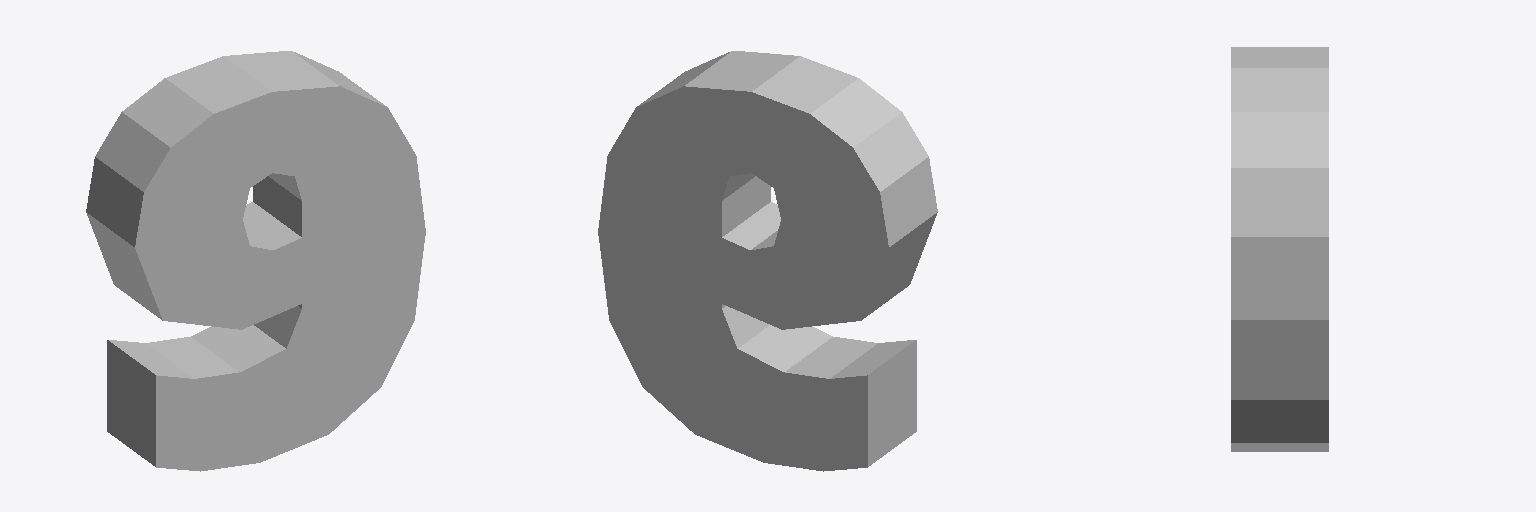
3 views of the same model, side by side, from view 1: azimuth 30°, elevation 25°; view 2: azimuth 150°, elevation 25°; view 3: azimuth 270°, elevation 25° (orthographic).
Visible parts, largest first — view 1: text: ABCDEFGHIJKLMNOPQRSTUVWXYZ[number redacted]; view 2: text: ABCDEFGHIJKLMNOPQRSTUVWXYZ[number redacted]; view 3: text: ABCDEFGHIJKLMNOPQRSTUVWXYZ[number redacted].
Boxes of the visible parts, x1,y1,x2,y2 form: text: ABCDEFGHIJKLMNOPQRSTUVWXYZ[number redacted]: [86, 51, 425, 471]; text: ABCDEFGHIJKLMNOPQRSTUVWXYZ[number redacted]: [598, 51, 937, 471]; text: ABCDEFGHIJKLMNOPQRSTUVWXYZ[number redacted]: [1231, 47, 1328, 451].
Bounding box in the file's own units: 85.73 × 104 × 25.